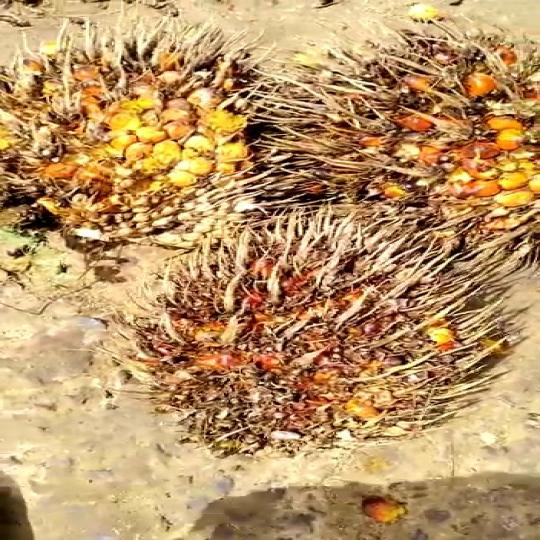terlalu masak: (104, 203, 513, 458), (0, 42, 303, 244)
